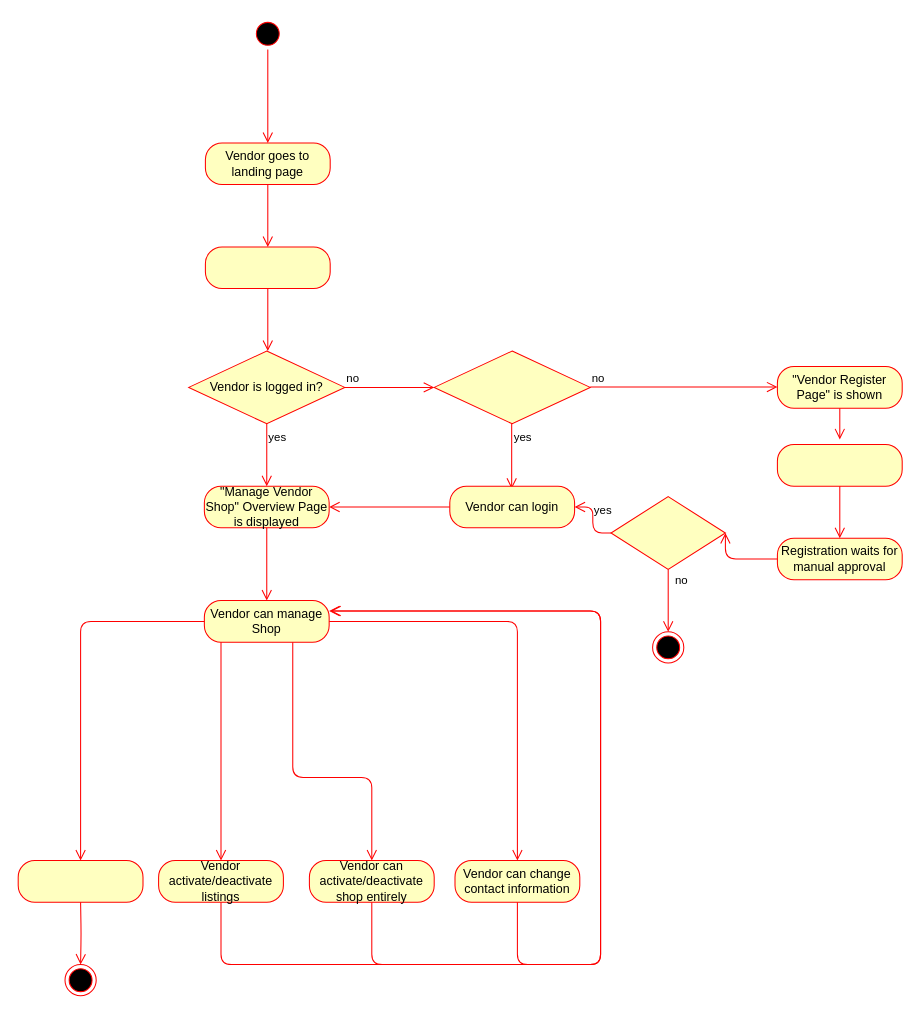
Image size: 920x1014. Some labels were removed from this diagram. Here are the shapes that lost their labels. From the top down, the centre of each, then its label:
(x=267, y=267): Vendor clicks on "Vendors"
(x=511, y=387): Vendor is registered?
(x=839, y=465): Vendor can register
(x=667, y=532): Registration is valid?
(x=80, y=881): Vendor can log out
